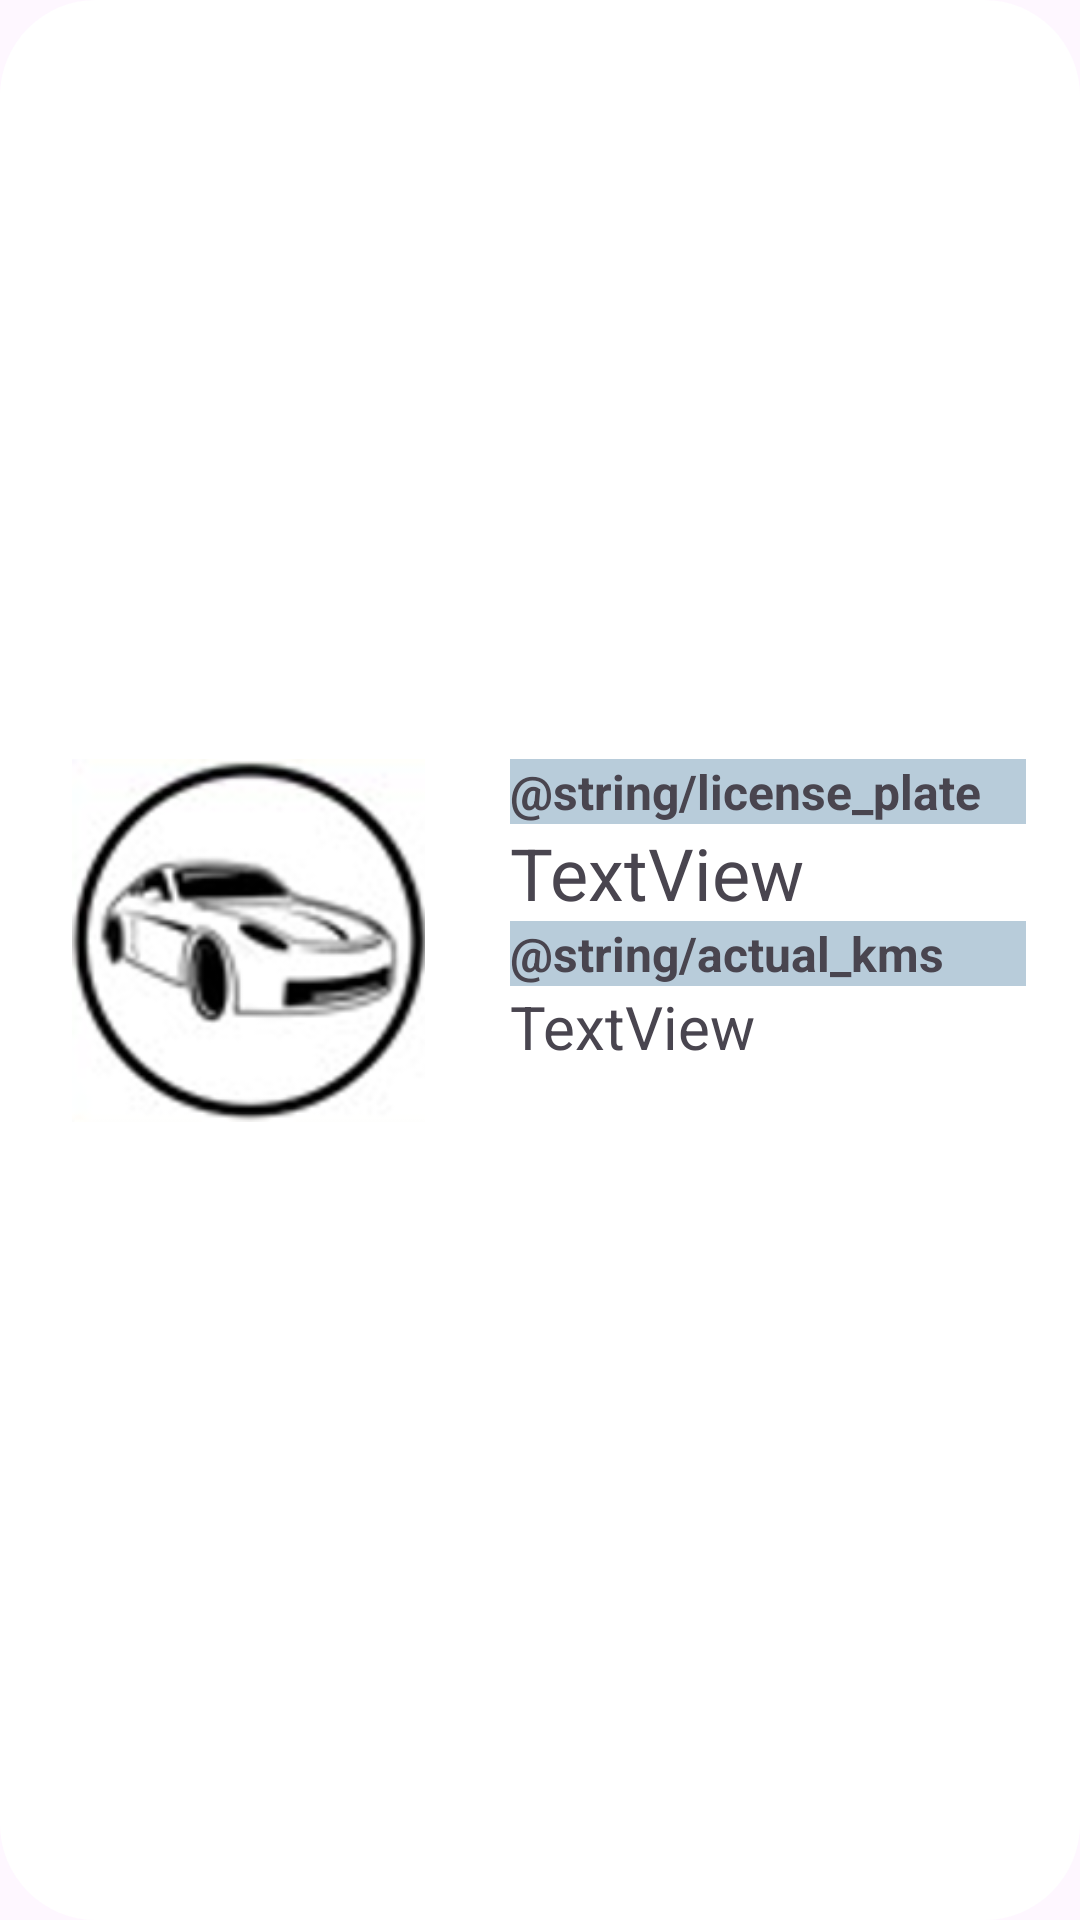

Named icons in this screenshot (1080 x 1920) and their bounding boxes, box(x1, y1, x2, y2):
vehicle: box(72, 762, 425, 1120)
